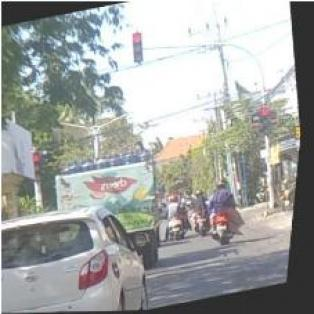Semaforo Rojo: (259, 107, 275, 138), (129, 32, 145, 62), (32, 151, 46, 181)
